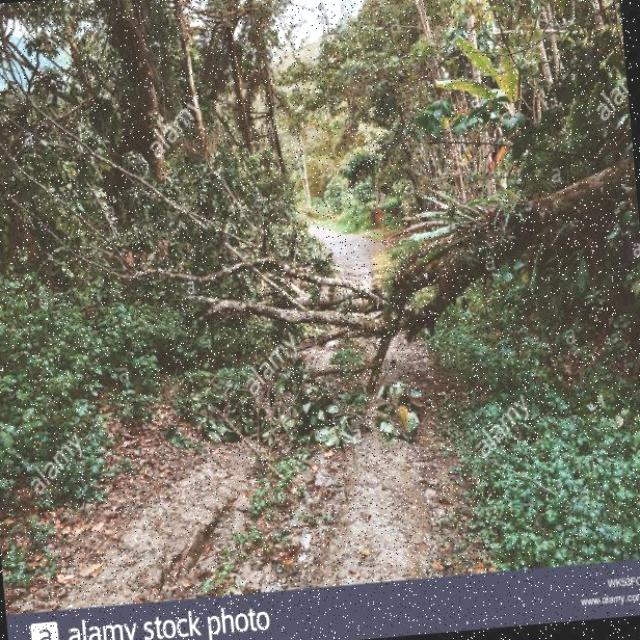fallen_object: (120, 125, 633, 349)
